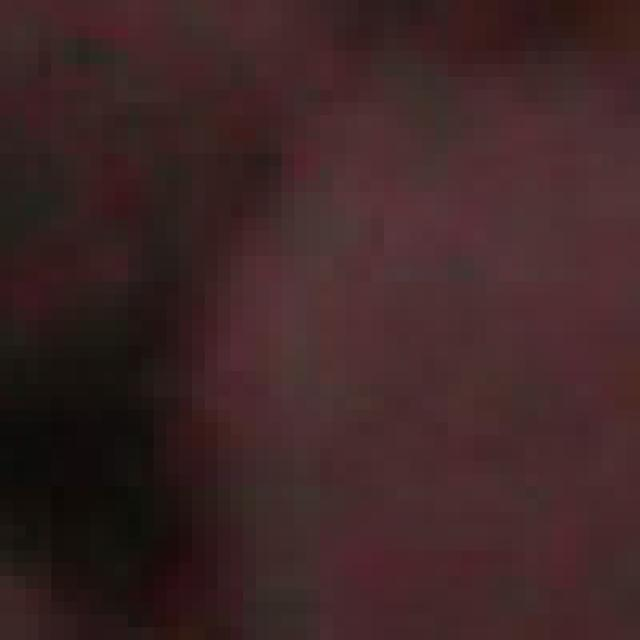fire: (65, 33, 640, 640)
